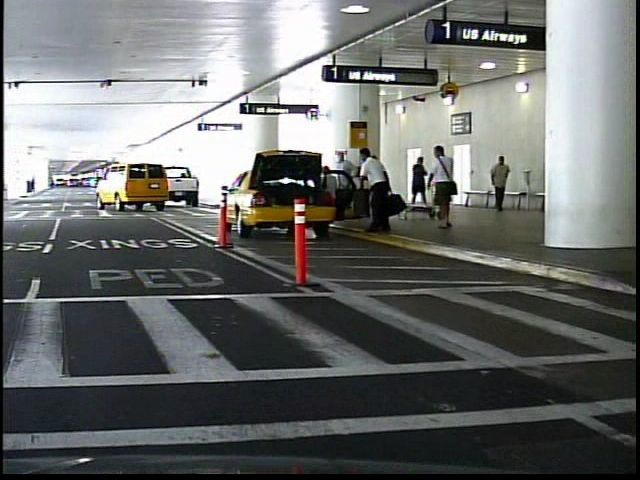person: (425, 146, 461, 233), (482, 151, 507, 213)
